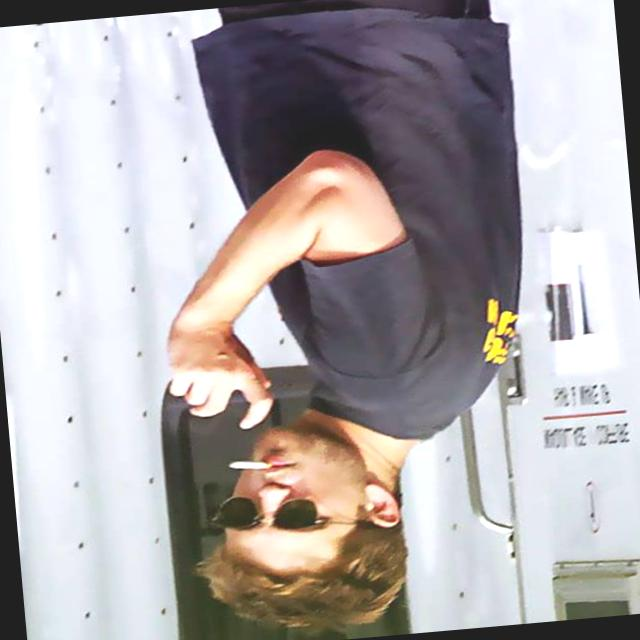smoke: (212, 446, 288, 484)
